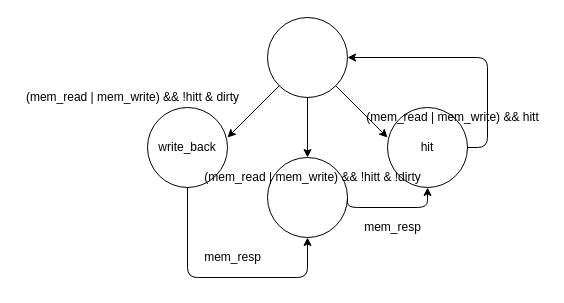
Image size: 564x303. Some labels were removed from this diagram. Each missing label, with the box of its shape:
miss: (266, 156, 348, 238)
start: (266, 16, 348, 98)
